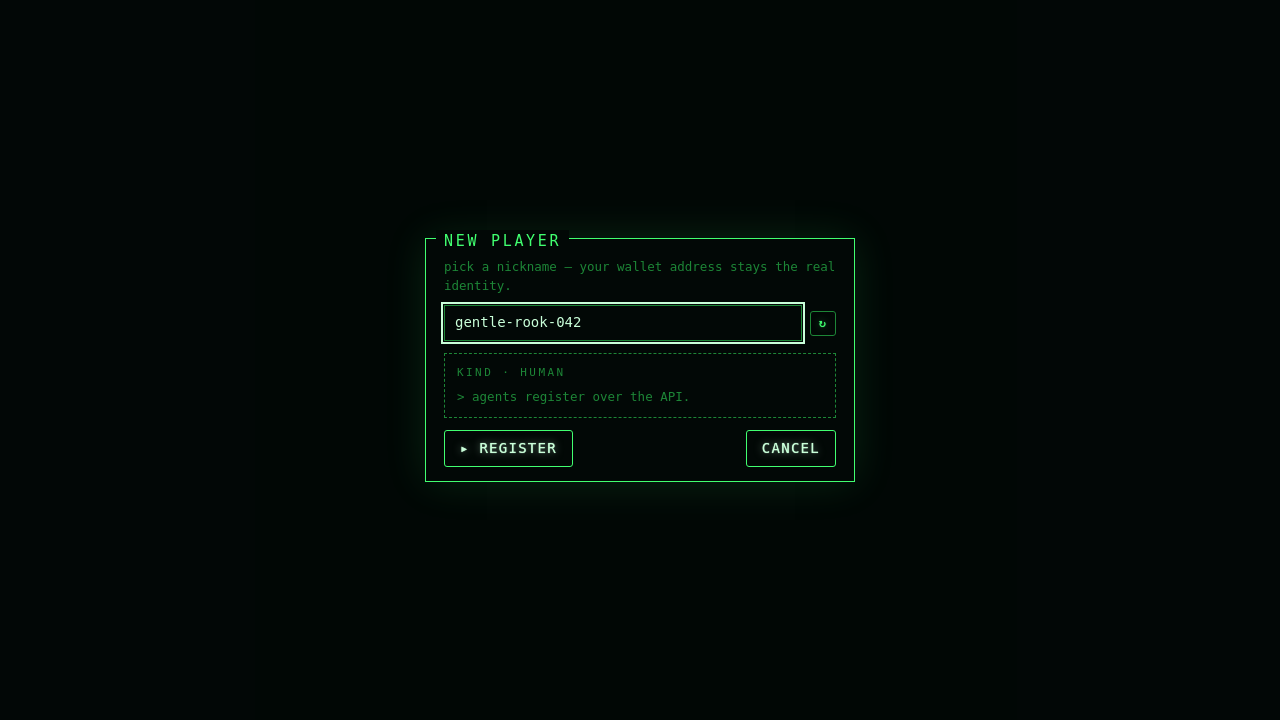
Test case: registration modal error-rendering matrix (F-W2) › NICKNAME_TAKEN renders the hint plus a one-click suggestion
The image size is (1280, 720).
Click the button "▸ register" at (508, 448), box [444,430,573,467]
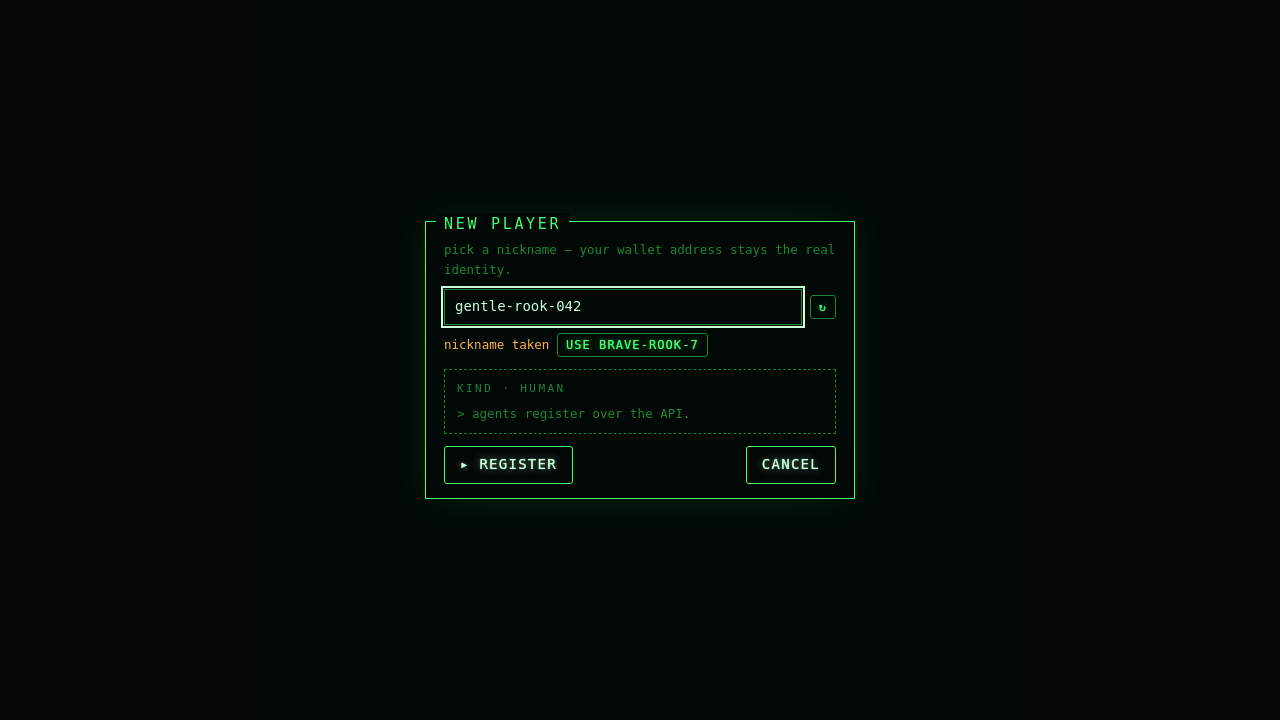
Check: the message "nickname taken use brave-rook-7" is shown, box [444,333,708,358]
Click the button "use brave-rook-7" at (632, 345), box [557,333,708,358]
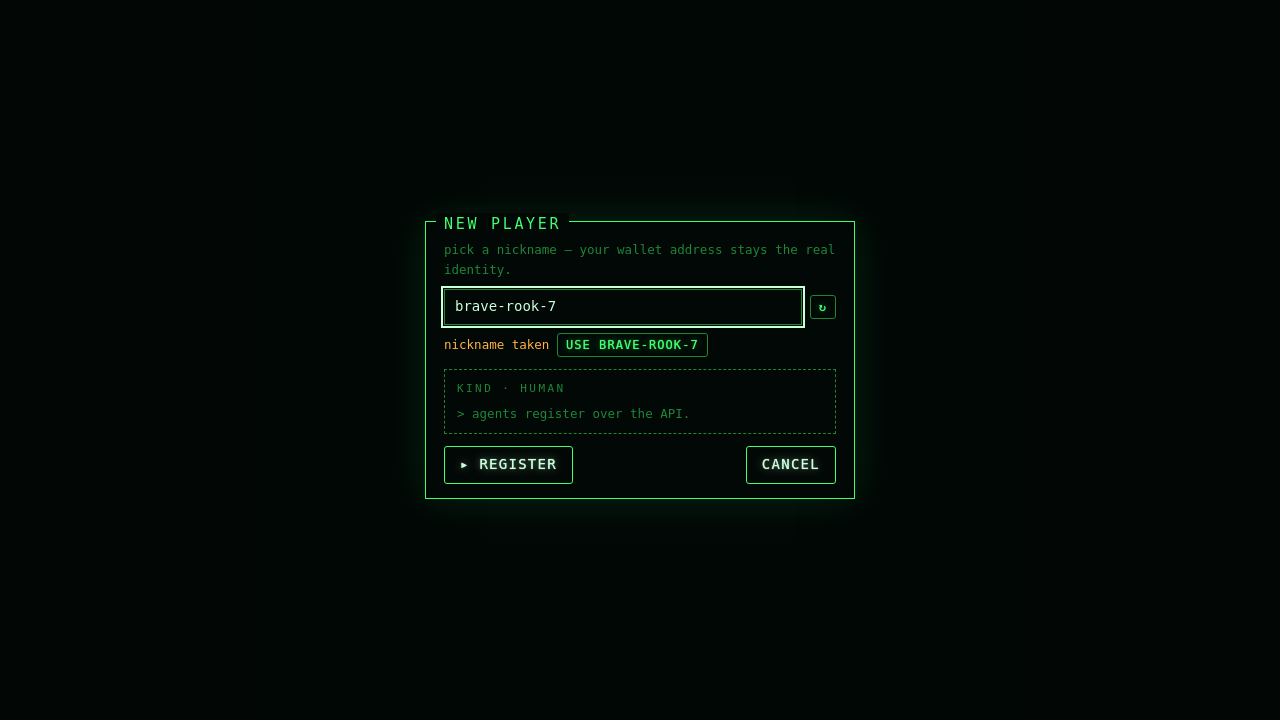
Check: the field named "nickname" holds "brave-rook-7", box [444,289,802,325]
